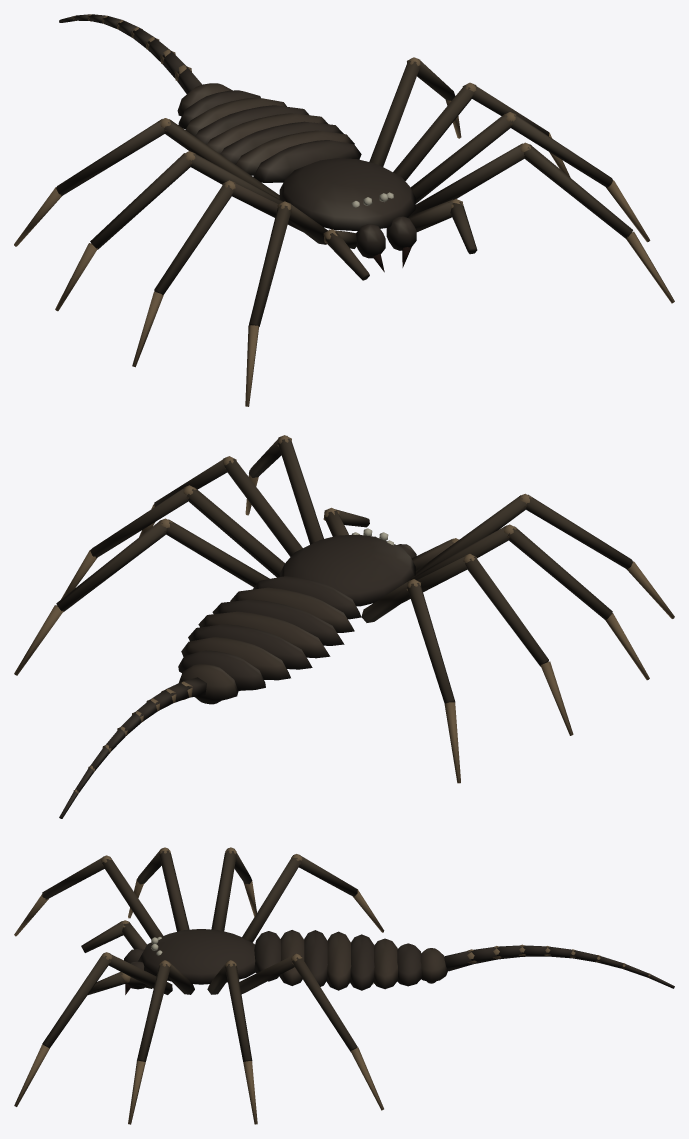
File: Attercopus.fbx
3 views of the same model, one above another, from view 1: azimuth 30°, elevation 25°; view 2: azimuth 150°, elevation 25°; view 3: azimuth 270°, elevation 25° (orthographic). The views are drawn at different scales.
Parts seen in each view (by area): view 1: Attercopus; view 2: Attercopus; view 3: Attercopus.
Part boxes in pixels (<box>): Attercopus: <box>14,14,674,406</box>; Attercopus: <box>14,435,674,818</box>; Attercopus: <box>14,847,674,1124</box>.
Bounding box in the file's own units: 1.17 × 0.308 × 1.57.
